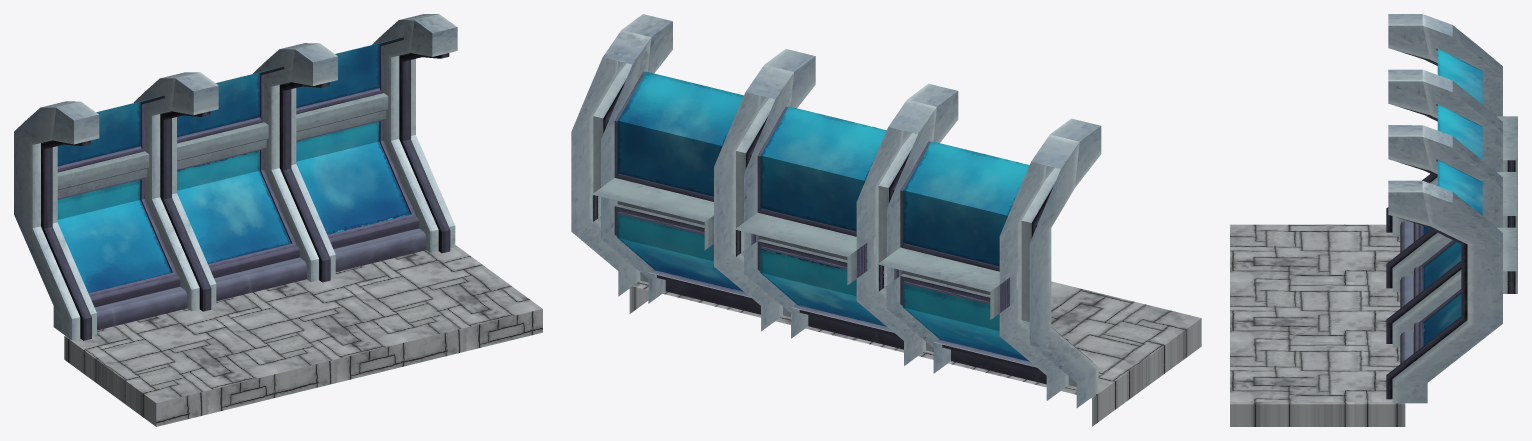
The model's file is straight_hallway_side2.fbx.
The picture shows the model from 3 angles, left to right: view 1: azimuth 30°, elevation 25°; view 2: azimuth 150°, elevation 25°; view 3: azimuth 270°, elevation 25°; orthographic projection. The views are drawn at different scales.
Visible parts, largest first — view 1: Hallway2Floor, StarightHWWallArch1.001, StarightHWWindow1.001, StarightHWWindow2.002, StarightHWWindowFrame.001, StarightHWWallArch2.003, StarightHWWallArch2.004, StarightHWWallArch2.005; view 2: StarightHWWallArch1.001, StarightHWWindow2.002, StarightHWWindow1.001, Hallway2Floor, StarightHWWindowFrame.001, StarightHWWallArch2.004, StarightHWWallArch2.003, StarightHWWallArch2.005; view 3: Hallway2Floor, StarightHWWallArch1.001, StarightHWWindow2.002, StarightHWWindowFrame.001, StarightHWWindow1.001, StarightHWWallArch2.004, StarightHWWallArch2.003, StarightHWWallArch2.005.
Part boxes in pixels (x1,y1,x2,y2): Hallway2Floor: [64, 245, 542, 426]; StarightHWWallArch1.001: [14, 14, 457, 340]; StarightHWWindow1.001: [57, 119, 416, 296]; StarightHWWindow2.002: [57, 37, 403, 172]; StarightHWWindowFrame.001: [57, 93, 388, 198]; StarightHWWallArch2.003: [329, 217, 426, 271]; StarightHWWallArch2.004: [209, 246, 306, 301]; StarightHWWallArch2.005: [90, 275, 187, 330]; StarightHWWallArch1.001: [571, 14, 1101, 407]; StarightHWWindow2.002: [614, 71, 1029, 271]; StarightHWWindow1.001: [614, 206, 1029, 361]; Hallway2Floor: [629, 280, 1201, 426]; StarightHWWindowFrame.001: [591, 178, 1018, 319]; StarightHWWallArch2.004: [791, 304, 903, 349]; StarightHWWallArch2.003: [648, 269, 760, 314]; StarightHWWallArch2.005: [934, 339, 1046, 384]; Hallway2Floor: [1230, 224, 1405, 426]; StarightHWWallArch1.001: [1386, 14, 1502, 403]; StarightHWWindow2.002: [1436, 48, 1482, 215]; StarightHWWindowFrame.001: [1497, 116, 1517, 293]; StarightHWWindow1.001: [1418, 224, 1461, 349]; StarightHWWallArch2.004: [1400, 267, 1418, 308]; StarightHWWallArch2.003: [1400, 322, 1418, 363]; StarightHWWallArch2.005: [1400, 220, 1418, 252].
Bounding box in the file's own units: 8.5 × 5.75 × 5.15.
Materials: 3 (3 with a texture image).
